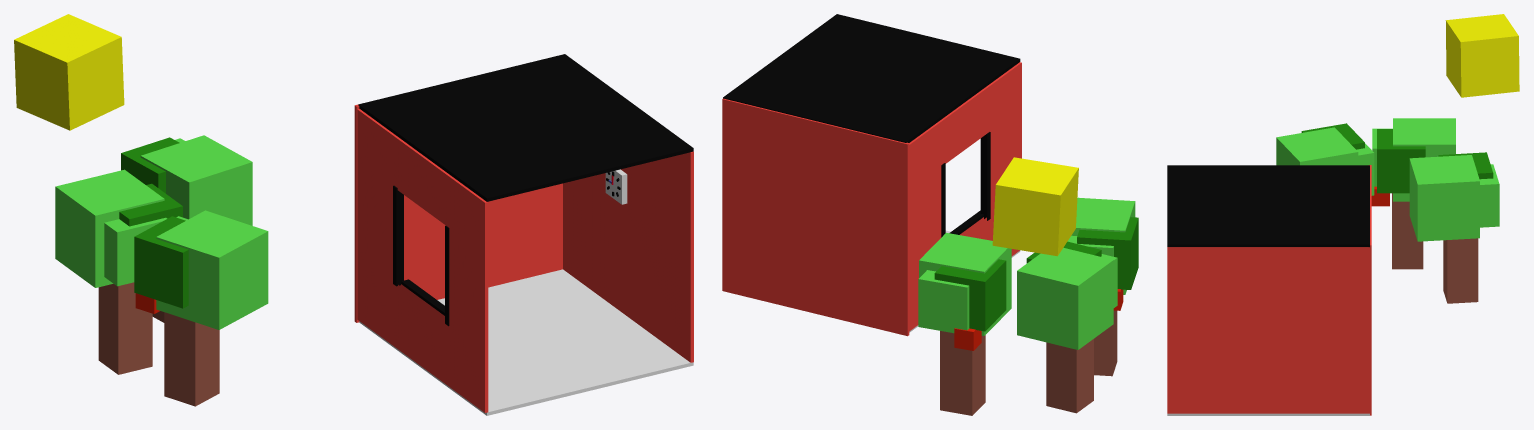
The model's file is room.glb.
3 views of the same model, side by side, from view 1: azimuth 30°, elevation 25°; view 2: azimuth 150°, elevation 25°; view 3: azimuth 270°, elevation 25° (orthographic). The views are drawn at different scales.
Visible parts, largest first — view 1: Cube.004, Cube.001, Cube.002, Cube, tree.002, tree, Cube.003, Cube.018, tree.001, Cube.007, Cube.009; view 2: Cube.003, Cube.004, tree, tree.001, Cube.001, Cube.018, tree.002, Cube.008; view 3: Cube.002, Cube.004, tree.001, tree, Cube.018, tree.002, Cube, Cube.003.
Boxes of the visible parts, left/top/right/bottom form: Cube.004: left=358, top=54, right=693, bottom=201; Cube.001: left=357, top=109, right=488, bottom=412; Cube.002: left=563, top=151, right=693, bottom=362; Cube: left=359, top=269, right=693, bottom=415; tree.002: left=134, top=210, right=268, bottom=406; tree: left=55, top=169, right=182, bottom=374; Cube.003: left=354, top=104, right=562, bottom=322; Cube.018: left=14, top=14, right=124, bottom=130; tree.001: left=121, top=135, right=252, bottom=322; Cube.007: left=393, top=185, right=403, bottom=286; Cube.009: left=605, top=169, right=627, bottom=204; Cube.003: left=722, top=98, right=909, bottom=336; Cube.004: left=723, top=14, right=1020, bottom=142; tree: left=1017, top=241, right=1117, bottom=413; tree.001: left=918, top=232, right=1011, bottom=415; Cube.001: left=909, top=62, right=1021, bottom=331; Cube.018: left=992, top=157, right=1078, bottom=256; tree.002: left=1067, top=197, right=1138, bottom=376; Cube.008: left=980, top=132, right=990, bottom=220; Cube.002: left=1167, top=247, right=1369, bottom=413; Cube.004: left=1167, top=165, right=1369, bottom=247; tree.001: left=1409, top=152, right=1499, bottom=303; tree: left=1371, top=118, right=1455, bottom=269; Cube.018: left=1445, top=14, right=1519, bottom=97; tree.002: left=1276, top=123, right=1374, bottom=195; Cube: left=1167, top=413, right=1369, bottom=415; Cube.003: left=1369, top=165, right=1371, bottom=415.
Bounding box in the file's own units: 18.05 × 10.9 × 14.99.
